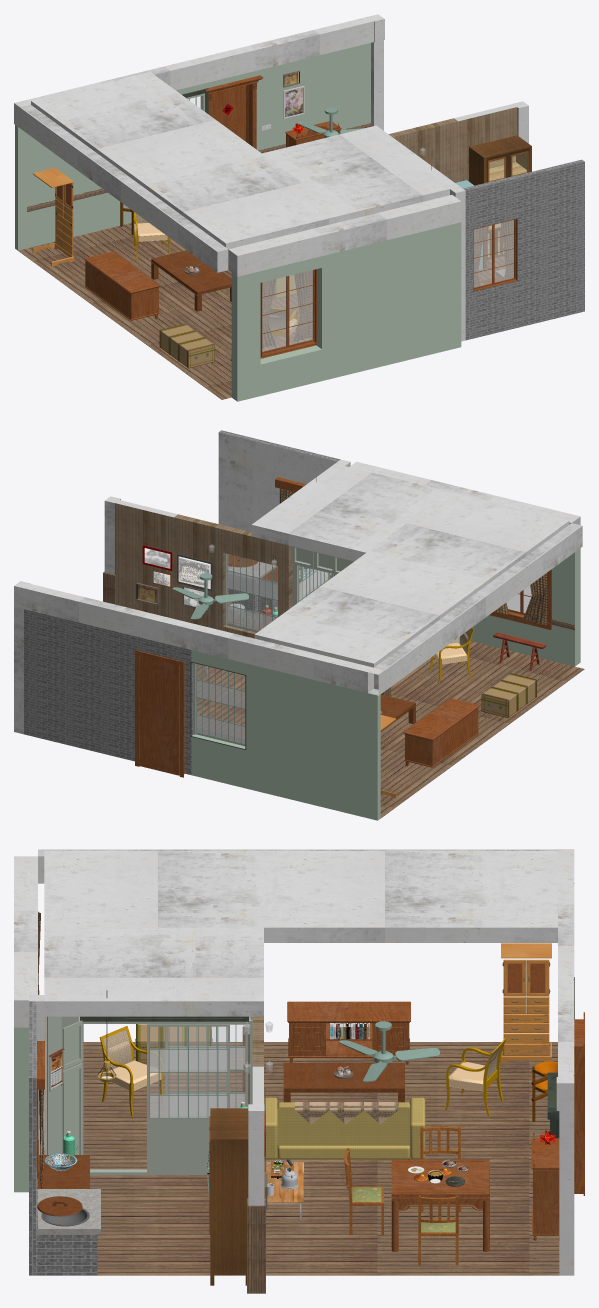
Rendered from room-su-core.draco.glb.
3 renders of one model, top to bottom at view 1: azimuth 30°, elevation 25°; view 2: azimuth 150°, elevation 25°; view 3: azimuth 270°, elevation 25°, orthographic. The views are drawn at different scales.
Parts seen in each view (by area): view 1: Geom3D (×21), Geom3D_ (×8); view 2: Geom3D (×23), Geom3D_ (×8), Assembly-1245; view 3: Geom3D (×40), Geom3D_ (×8).
Boxes of the visible parts, bbox=[...] form: Geom3D (×21): bbox=[14, 14, 584, 401]; Geom3D_ (×8): bbox=[84, 85, 513, 358]; Geom3D (×23): bbox=[14, 432, 584, 820]; Geom3D_ (×8): bbox=[135, 569, 551, 777]; Assembly-1245: bbox=[144, 548, 210, 609]; Geom3D (×40): bbox=[14, 849, 574, 1293]; Geom3D_ (×8): bbox=[36, 1001, 583, 1275].
Size of the model in its own units: 7.89 by 3 by 7.54.
172 materials, 98 textured.
